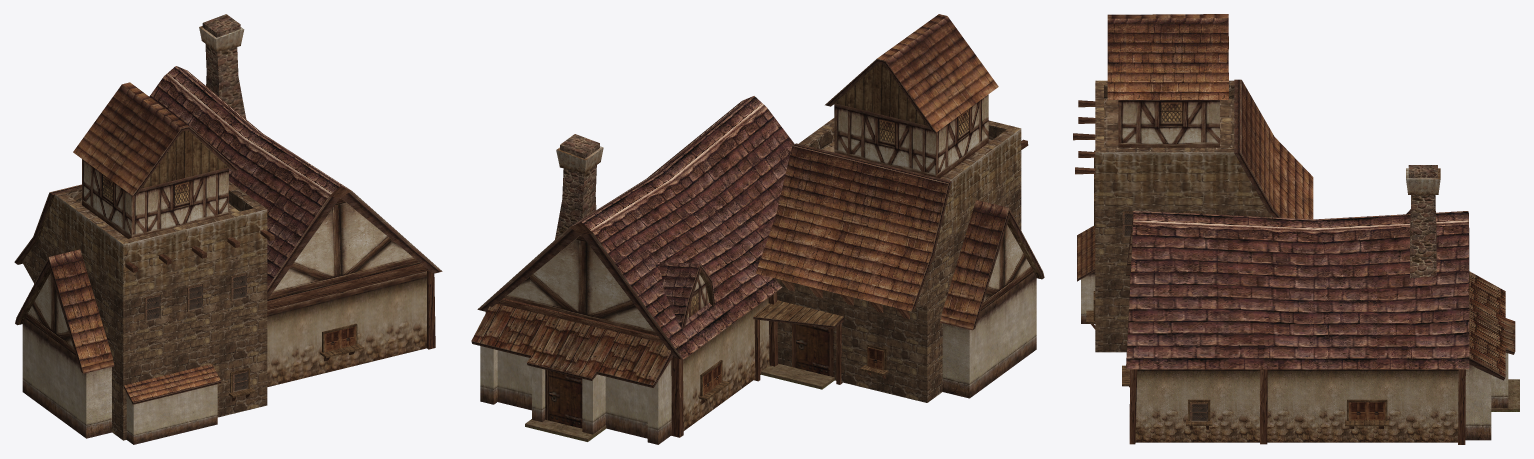
Rendered from ti_house_04.glb.
The picture shows the model from 3 angles, left to right: view 1: azimuth 30°, elevation 25°; view 2: azimuth 150°, elevation 25°; view 3: azimuth 270°, elevation 25°; orthographic projection. The views are drawn at different scales.
Visible parts, largest first — view 1: TI_House_04; view 2: TI_House_04; view 3: TI_House_04.
Part boxes in pixels (x1=…): TI_House_04: x1=14, y1=14, x2=442, y2=444; TI_House_04: x1=471, y1=14, x2=1044, y2=444; TI_House_04: x1=1073, y1=14, x2=1519, y2=444.
Size of the model in its own units: 5.07 by 3.9 by 5.26.
30 materials, 30 textured.
